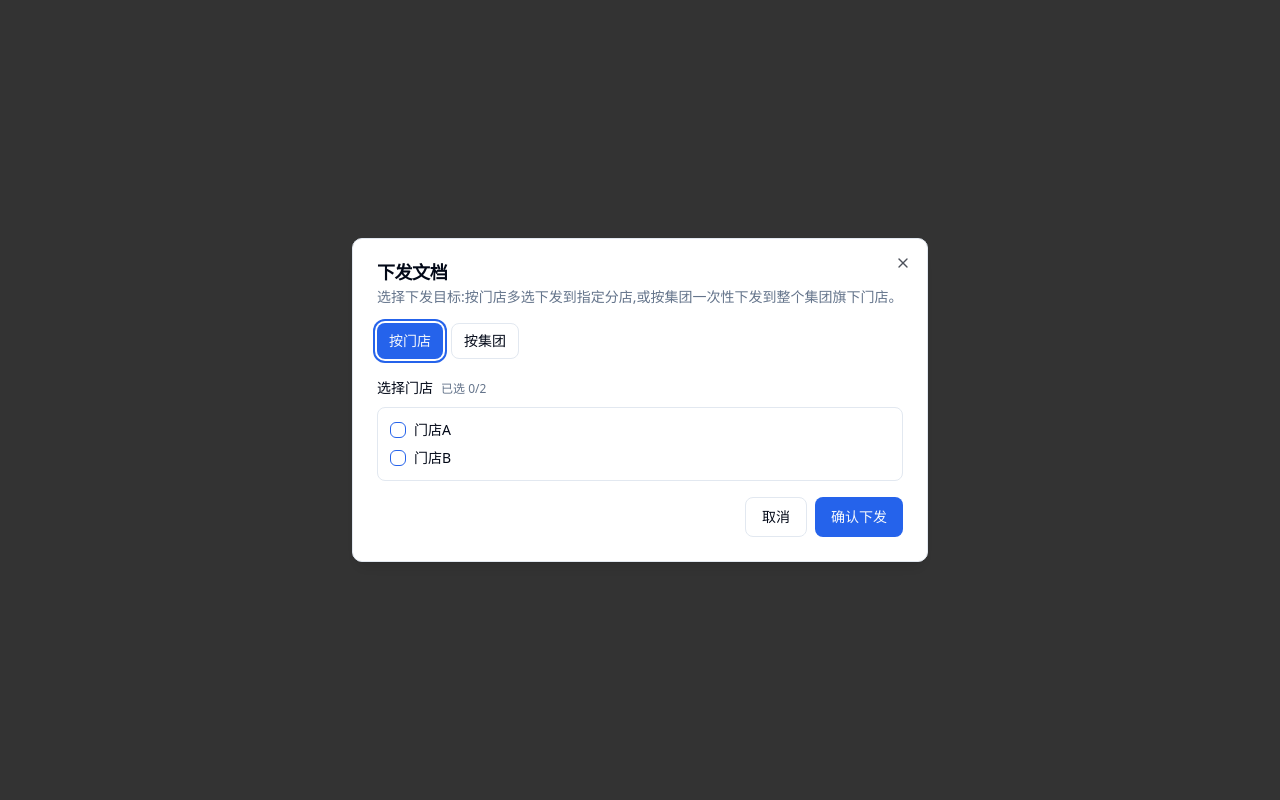
it: DistributeDialog 模式切换与目标派生(admin-ui slice 03 F4) › 切到「按集团」:group_admin Select 锁定本集团(disabled + 显示本集团名)
Click the button "按集团".
click(485, 341)  # box [451,323,519,359]
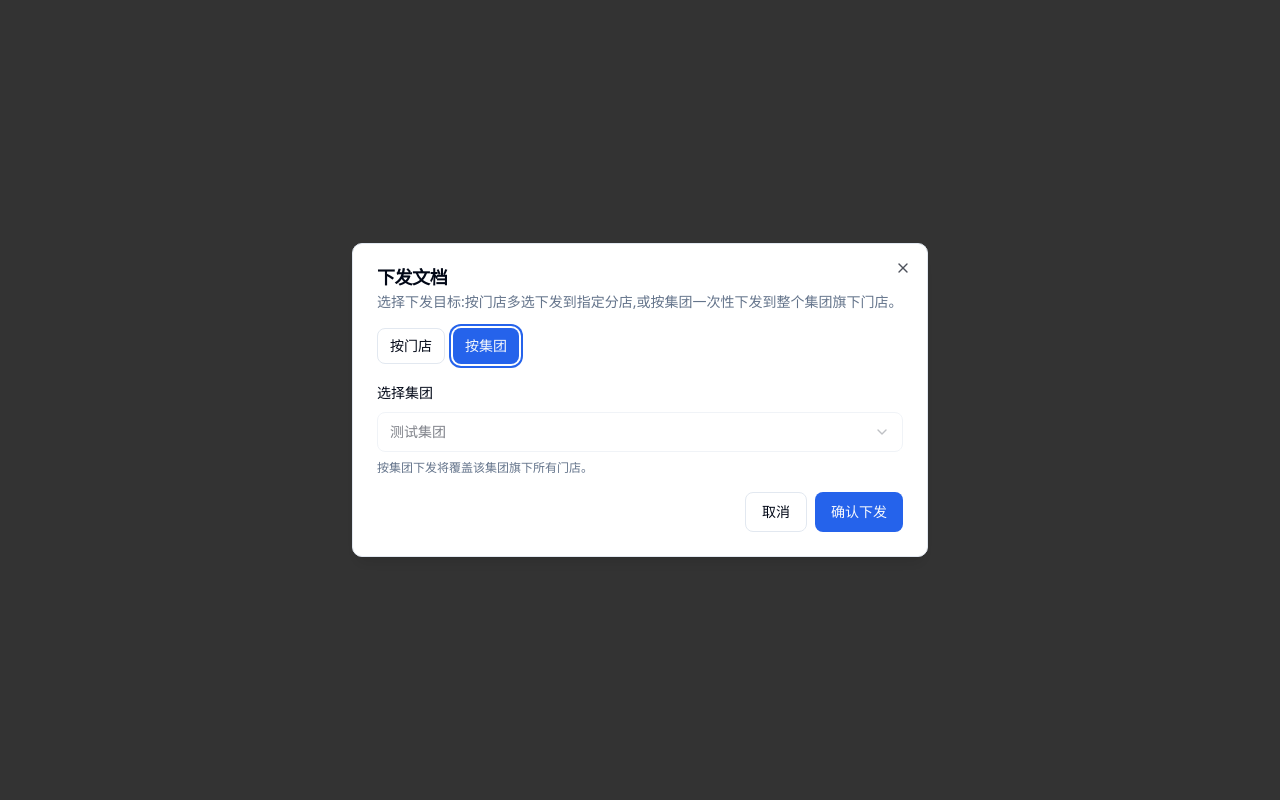
Expected: the text "测试集团" is shown, [390,422,446,442]
Expected: the dropdown labelled "测试集团" is shown, [377,412,903,452]
